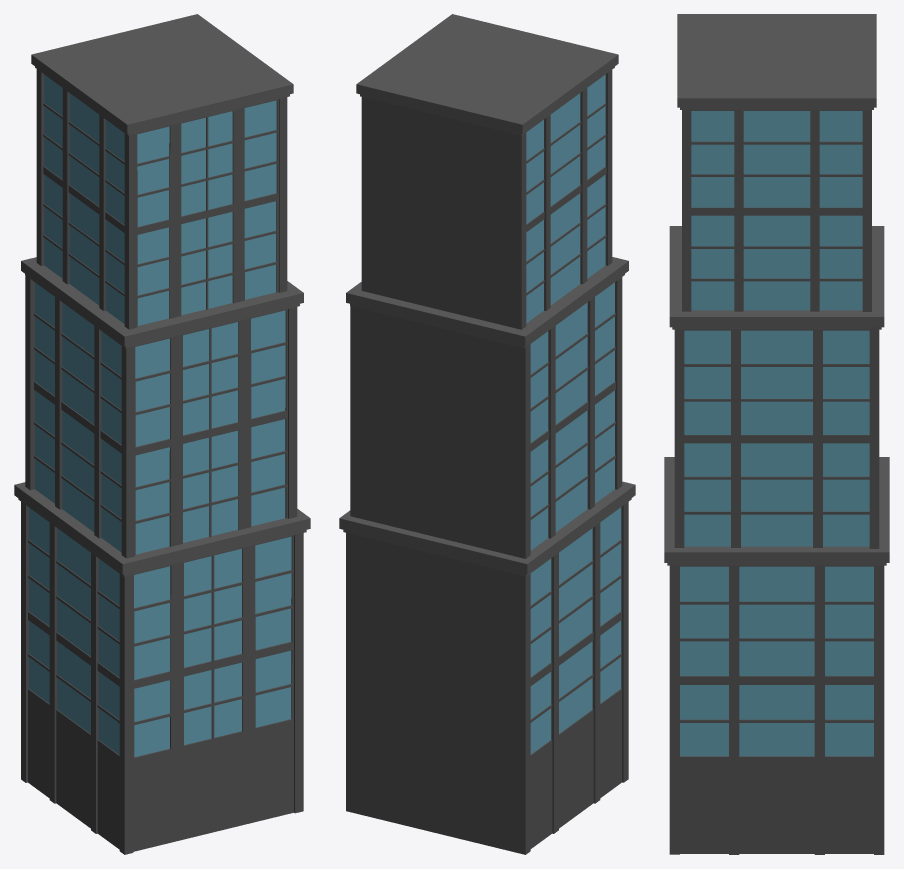
The model's file is House_04.fbx.
The picture shows the model from 3 angles, left to right: view 1: azimuth 30°, elevation 25°; view 2: azimuth 150°, elevation 25°; view 3: azimuth 270°, elevation 25°; orthographic projection. The views are drawn at different scales.
Visible parts, largest first — view 1: House_04; view 2: House_04; view 3: House_04.
Boxes of the visible parts, left/top/right/bottom form: House_04: left=14, top=14, right=310, bottom=854; House_04: left=339, top=14, right=635, bottom=854; House_04: left=664, top=14, right=889, bottom=854.
Size of the model in its own units: 2191 by 8084 by 2191.
